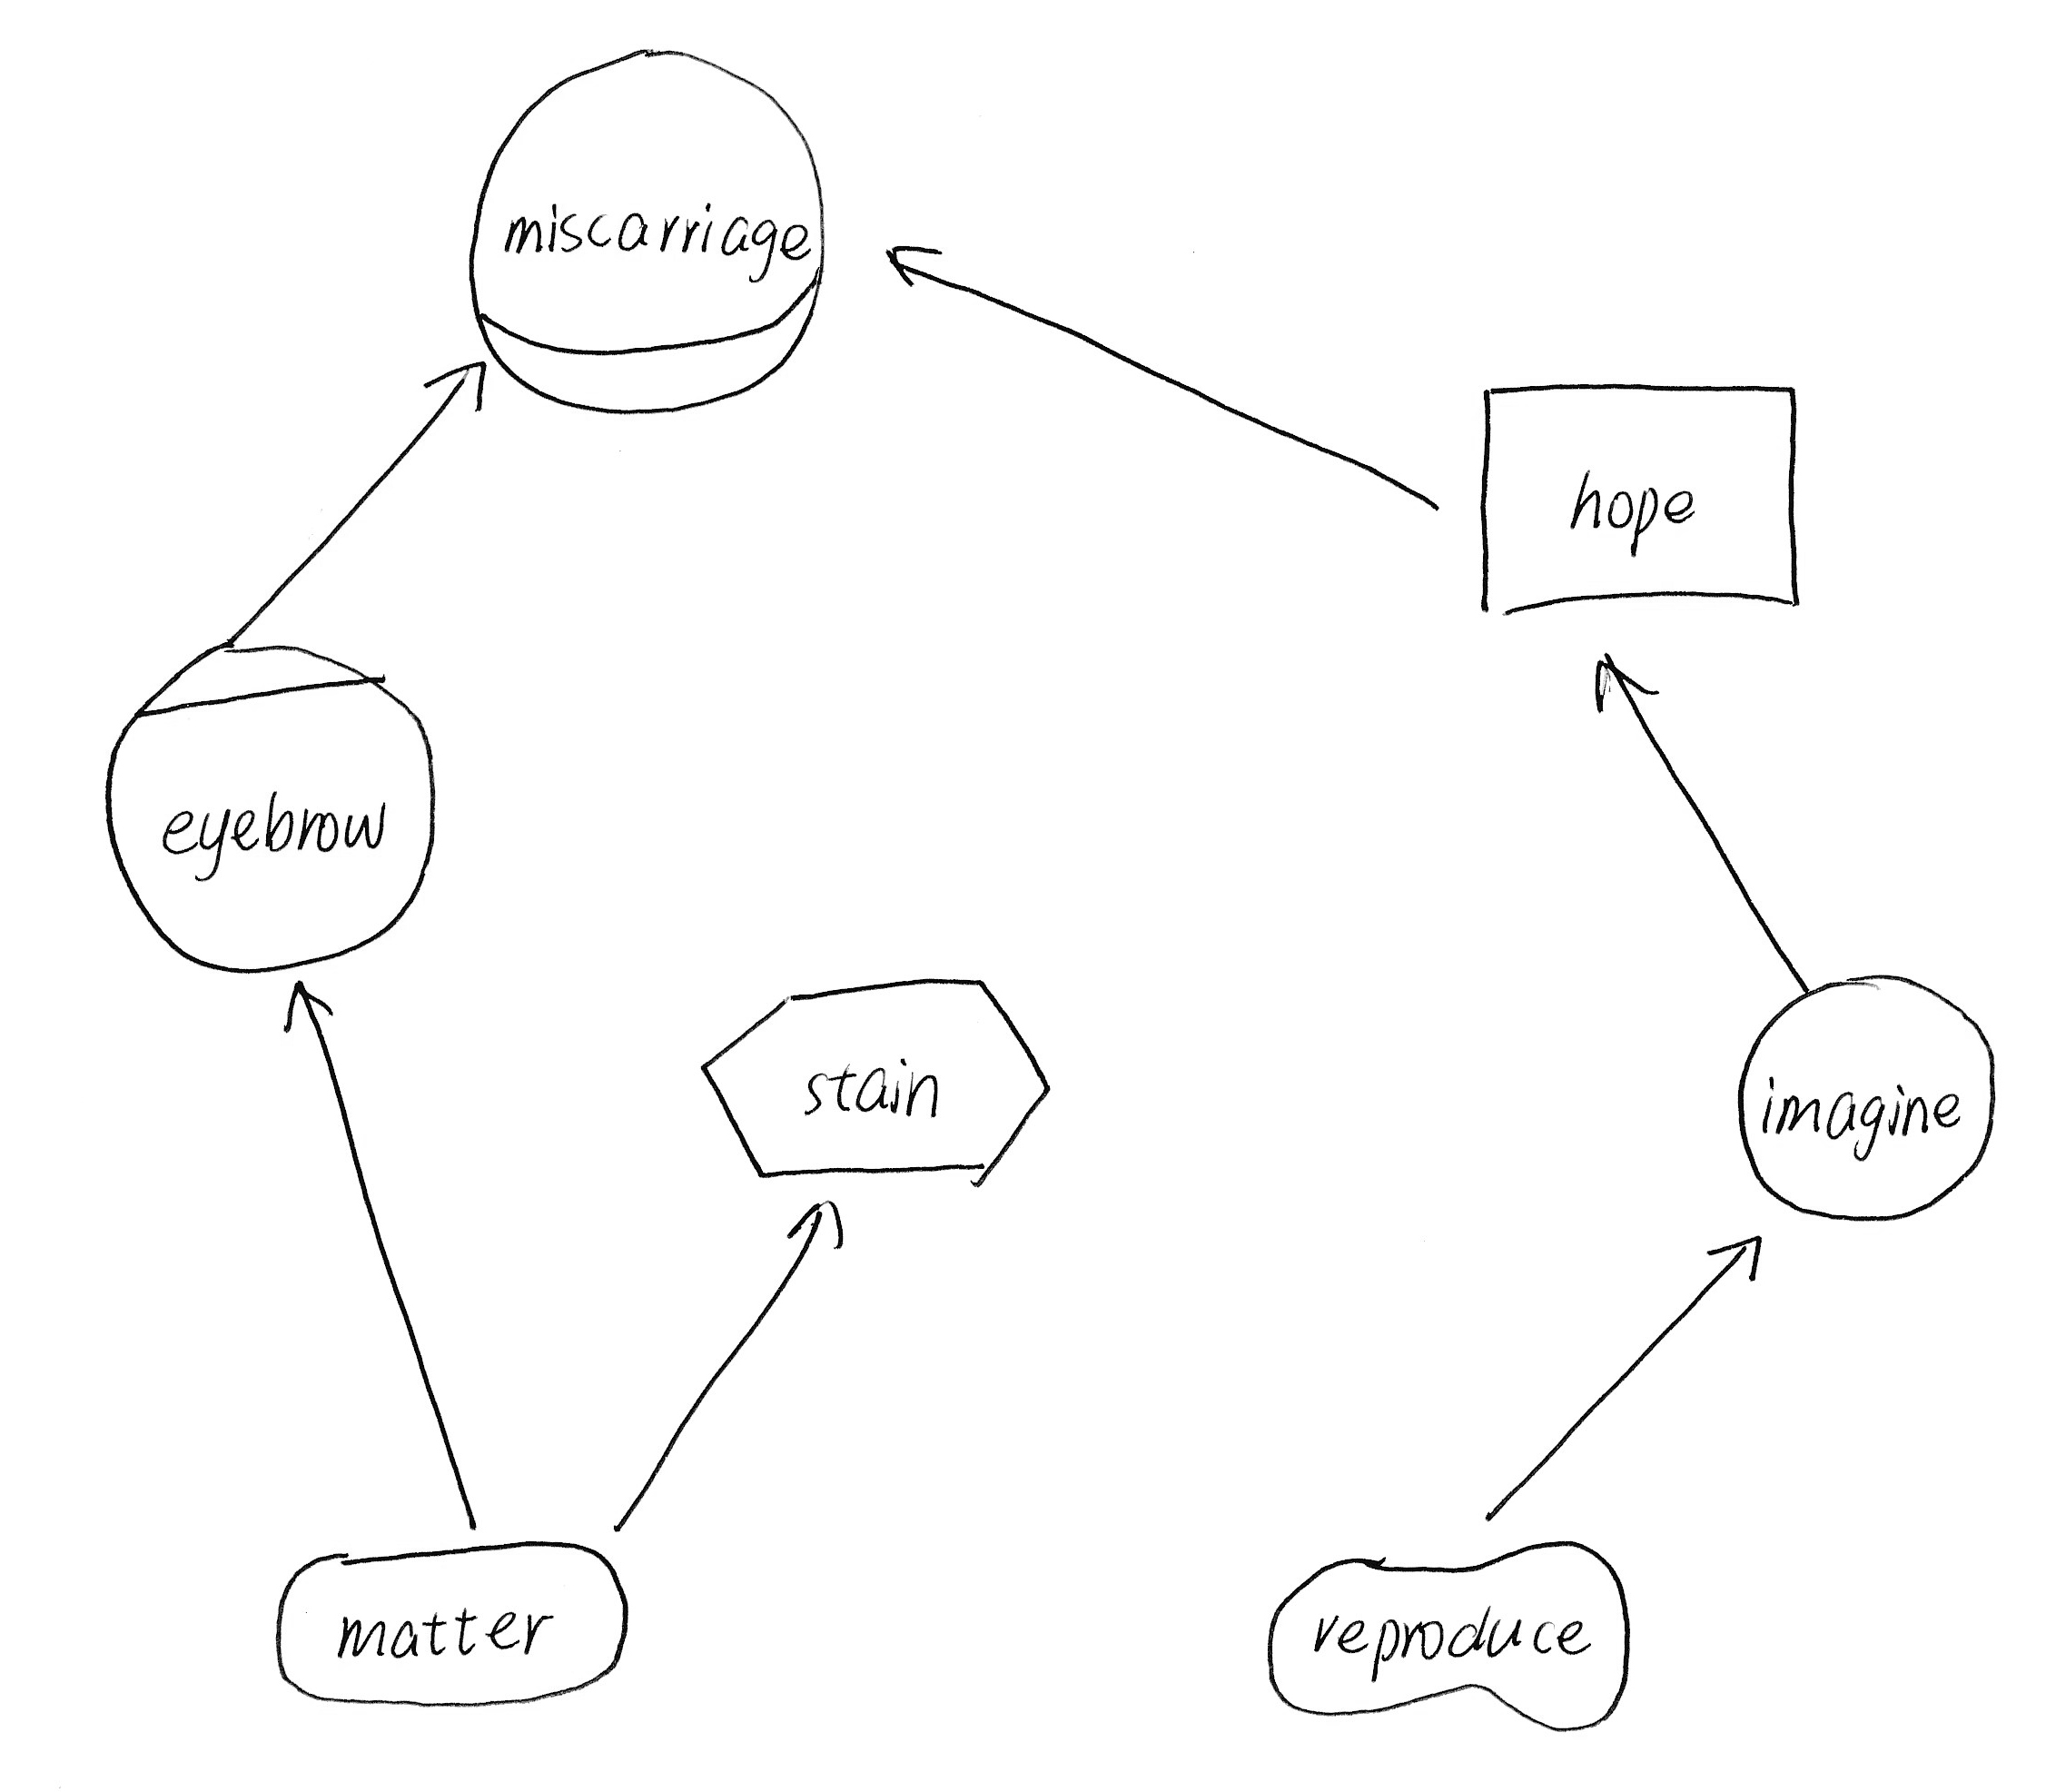actor: (1717, 955, 2016, 1231)
agent: (89, 614, 458, 998)
arrow: (1579, 640, 1670, 727), (780, 1182, 860, 1266), (266, 969, 344, 1052), (1701, 1220, 1785, 1299), (874, 220, 951, 306), (420, 353, 504, 427)
goal: (257, 1523, 650, 1727)
quality: (1250, 1530, 1647, 1748)
resource: (1456, 357, 1825, 642)
role: (448, 21, 846, 434)
task: (680, 958, 1065, 1196)
